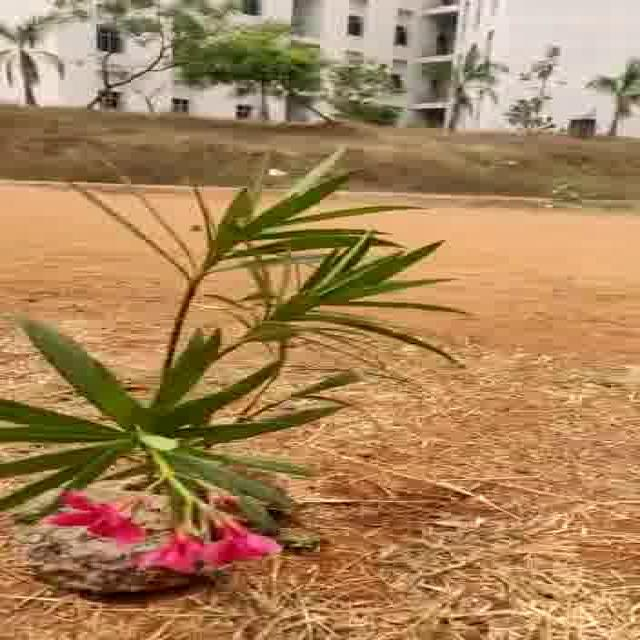Oleander: (50, 166, 416, 593)
